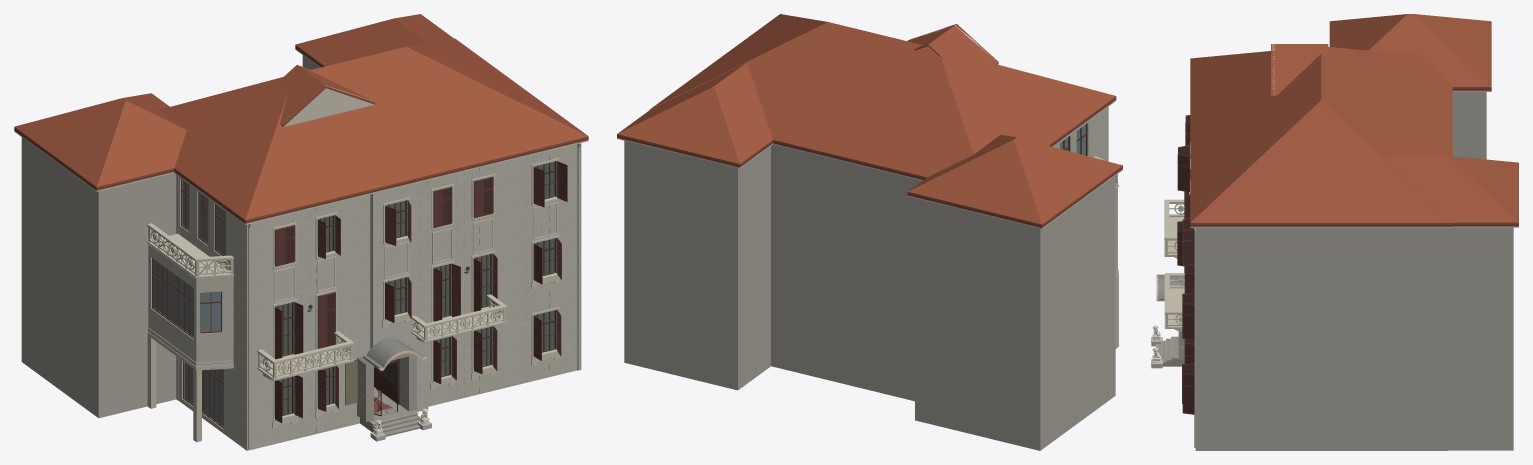
Rendered from xuhui-shaanxi-202-former-yihe-hospital-lod.glb.
The picture shows the model from 3 angles, left to right: view 1: azimuth 30°, elevation 25°; view 2: azimuth 150°, elevation 25°; view 3: azimuth 270°, elevation 25°; orthographic projection. The views are drawn at different scales.
Parts seen in each view (by area): view 1: 怡和医院旧址庭院立面与拱顶门廊; view 2: 怡和医院旧址庭院立面与拱顶门廊; view 3: 怡和医院旧址庭院立面与拱顶门廊.
Part boxes in pixels (left/top/right/bottom): 怡和医院旧址庭院立面与拱顶门廊: left=14, top=14, right=588, bottom=450; 怡和医院旧址庭院立面与拱顶门廊: left=617, top=14, right=1122, bottom=450; 怡和医院旧址庭院立面与拱顶门廊: left=1151, top=14, right=1518, bottom=450.
Bounding box in the file's own units: 28.98 × 20.29 × 22.33.
38 materials, 3 textured.
